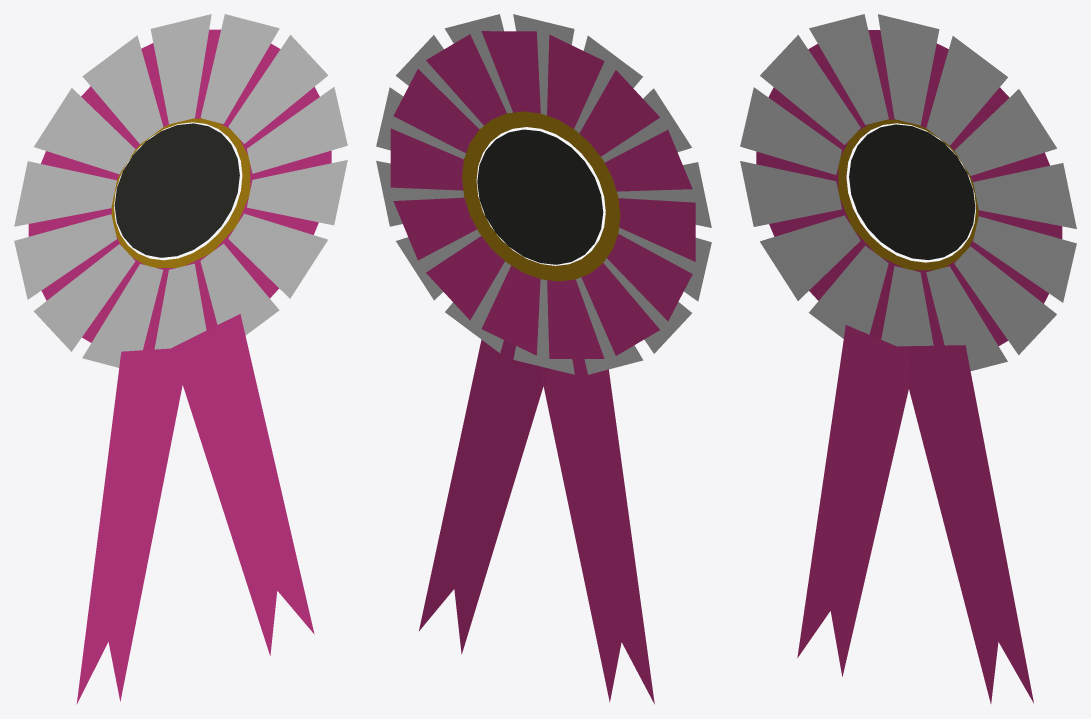
Rendered from FairRibbon.glb.
3 views of the same model, side by side, from view 1: azimuth 30°, elevation 25°; view 2: azimuth 150°, elevation 25°; view 3: azimuth 330°, elevation 25° (orthographic).
Parts seen in each view (by area): view 1: Center, Center.001; view 2: Center, Center.001; view 3: Center, Center.001.
Boxes of the visible parts, x1,y1,x2,y2 form: Center: (14,14,347,704); Center.001: (33,244,163,351); Center: (376,14,711,704); Center.001: (555,258,691,353); Center: (740,14,1076,703); Center.001: (760,215,896,300).
Size of the model in its own units: 0.9398 by 1.79 by 0.0493.
